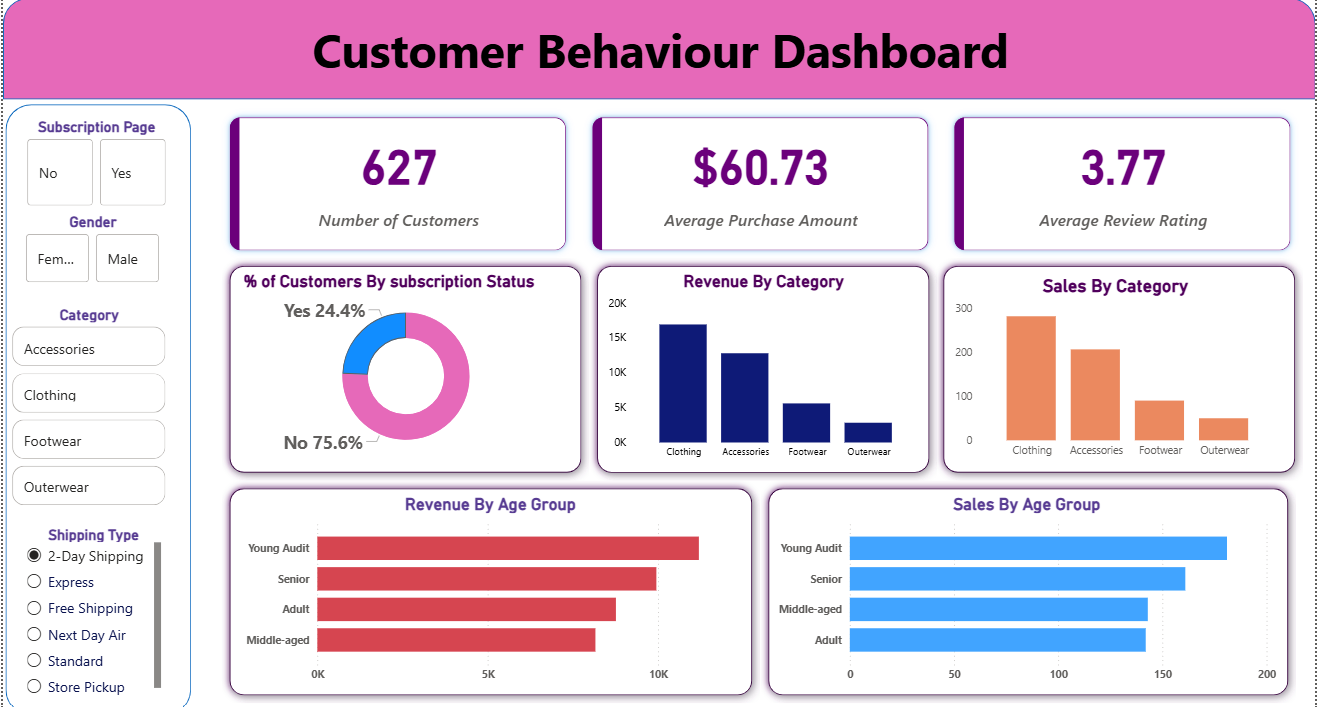

What the dashboard file says about the page in this screenshot:
{"tool":"powerbi","page":{"name":"Page 1","canvas":[1500,820],"ordinal":0},"visuals":[{"type":"cardVisual","fields":{"Data":["shopping colab.Number of Customers","shopping colab.Average Purchase Amount","shopping colab.Average Review Rating"]},"box":[230.9,108.8,1269.1,208.8],"z":0},{"type":"shape","box":[250,297.1,420,254.3],"z":1000},{"type":"shape","box":[670,296.7,397.8,254.4],"z":2000},{"type":"shape","box":[0,0,1500,115.9],"z":3000},{"type":"textbox","box":[185.5,17.4,1131.9,81.2],"z":4000},{"type":"shape","box":[1065.7,297.1,420,254.3],"z":5000},{"type":"clusteredColumnChart","title":"Revenue By Category","fields":{"Y":["Sum(shopping colab.purchase_amount)"],"Category":["shopping colab.category"]},"box":[686.7,312.2,364.4,223.3],"z":6000},{"type":"donutChart","title":"% of Customers By subscription Status","fields":{"Category":["shopping colab.subscription_status"],"Y":["Count(shopping colab.customer_id)"]},"box":[270,312.9,381.4,218.6],"z":7000},{"type":"clusteredColumnChart","title":"Sales By Category","fields":{"Y":["CountNonNull(shopping colab.customer_id)"],"Category":["shopping colab.category"]},"box":[1082.9,317.1,377.1,218.6],"z":8000},{"type":"shape","box":[3,121.2,212,699],"z":9000},{"type":"advancedSlicerVisual","title":"Subscription Page","fields":{"Values":["shopping colab.subscription_status"]},"box":[22.9,137.1,168.6,105.7],"z":10000},{"type":"advancedSlicerVisual","title":"Gender","fields":{"Values":["shopping colab.gender"]},"box":[21.2,245.5,163,85],"z":11000},{"type":"advancedSlicerVisual","title":"Category","fields":{"Values":["shopping colab.category"]},"box":[5.7,351.4,185.7,235.7],"z":12000},{"type":"listSlicer","title":"Shipping Type","fields":{"Values":["shopping colab.shipping_type"]},"box":[21.4,602.9,164.3,202.9],"z":13000},{"type":"shape","box":[250.3,551,615.2,254.5],"z":14000},{"type":"clusteredBarChart","title":"Revenue By Age Group","fields":{"Y":["Sum(shopping colab.purchase_amount)"],"Category":["shopping colab.age_group"]},"box":[271.5,567.6,571.2,224.2],"z":15000},{"type":"shape","box":[865.5,551,612.1,254.5],"z":16000},{"type":"clusteredBarChart","title":"Sales By Age Group","fields":{"Category":["shopping colab.age_group"],"Y":["CountNonNull(shopping colab.customer_id)"]},"box":[880.6,567.6,580.3,224.2],"z":17000}]}

Visuals, with their boxes in screenshot pixels (x1, y1, x2, y2), scaled from the page's 1500x820 canvas onto the 1327x707 screenshot:
cardVisual - shopping colab.Number of Customers x shopping colab.Average Purchase Amount: <bbox>204, 94, 1326, 274</bbox>
shape: <bbox>221, 256, 593, 475</bbox>
shape: <bbox>593, 256, 945, 475</bbox>
shape: <bbox>0, 0, 1326, 100</bbox>
textbox: <bbox>164, 15, 1165, 85</bbox>
shape: <bbox>943, 256, 1314, 475</bbox>
"Revenue By Category" clusteredColumnChart: <bbox>608, 269, 930, 462</bbox>
"% of Customers By subscription Status" donutChart: <bbox>239, 270, 576, 458</bbox>
"Sales By Category" clusteredColumnChart: <bbox>958, 273, 1292, 462</bbox>
shape: <bbox>3, 104, 190, 706</bbox>
"Subscription Page" advancedSlicerVisual: <bbox>20, 118, 169, 209</bbox>
"Gender" advancedSlicerVisual: <bbox>19, 212, 163, 285</bbox>
"Category" advancedSlicerVisual: <bbox>5, 303, 169, 506</bbox>
"Shipping Type" listSlicer: <bbox>19, 520, 164, 695</bbox>
shape: <bbox>221, 475, 766, 694</bbox>
"Revenue By Age Group" clusteredBarChart: <bbox>240, 489, 746, 683</bbox>
shape: <bbox>766, 475, 1307, 694</bbox>
"Sales By Age Group" clusteredBarChart: <bbox>779, 489, 1292, 683</bbox>
